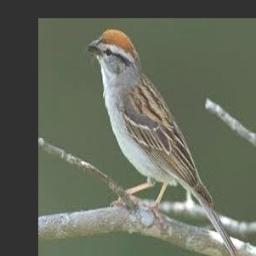Sparrow: (86, 27, 244, 256)
